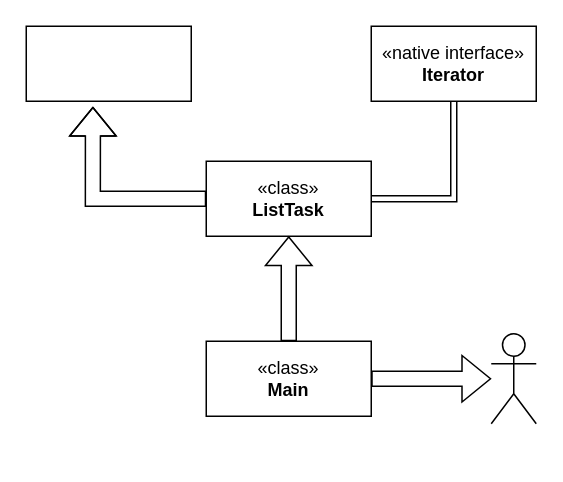
The diagram is 563 pixels wide and 482 high, and some of its shapes have lost their labels. Each missing label, with the box of its shape:
Client: (490, 332, 536, 424)
«class» Task: (25, 25, 191, 101)
